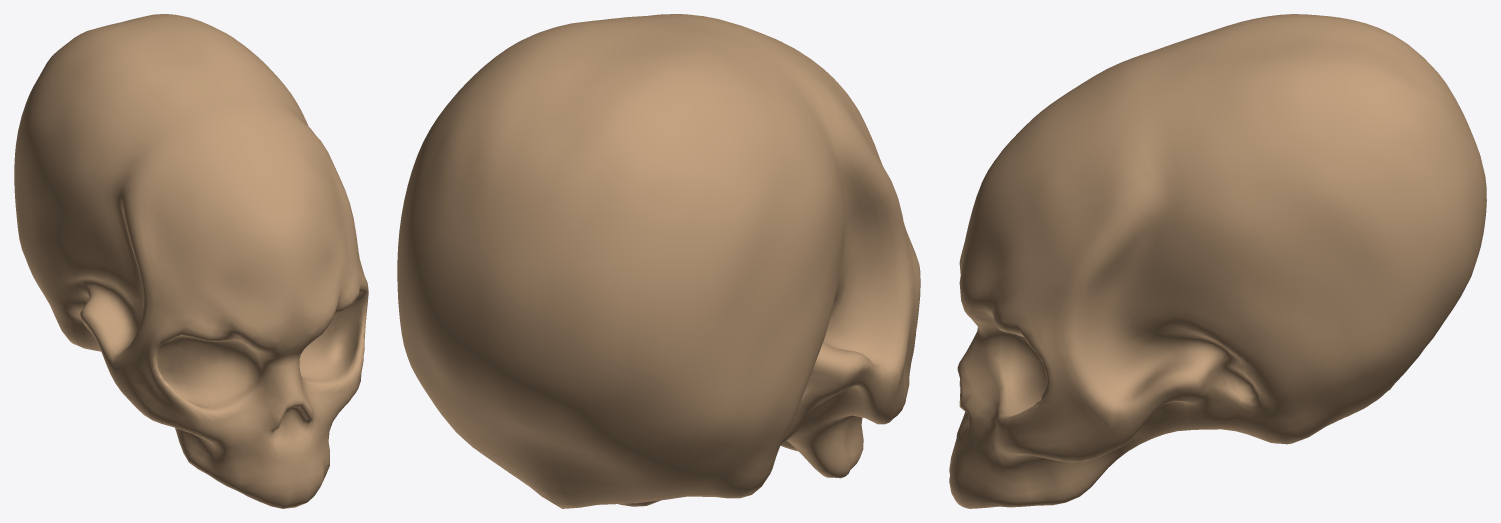
File: Alienskull.fbx
3 views of the same model, side by side, from view 1: azimuth 30°, elevation 25°; view 2: azimuth 150°, elevation 25°; view 3: azimuth 270°, elevation 25° (orthographic). The views are drawn at different scales.
Visible parts, largest first — view 1: skull1.001; view 2: skull1.001; view 3: skull1.001.
Part boxes in pixels (x1,y1,x2,y2): skull1.001: [14, 14, 368, 508]; skull1.001: [397, 14, 920, 508]; skull1.001: [949, 14, 1486, 508].
Size of the model in its own units: 1493 by 2160 by 2281.
